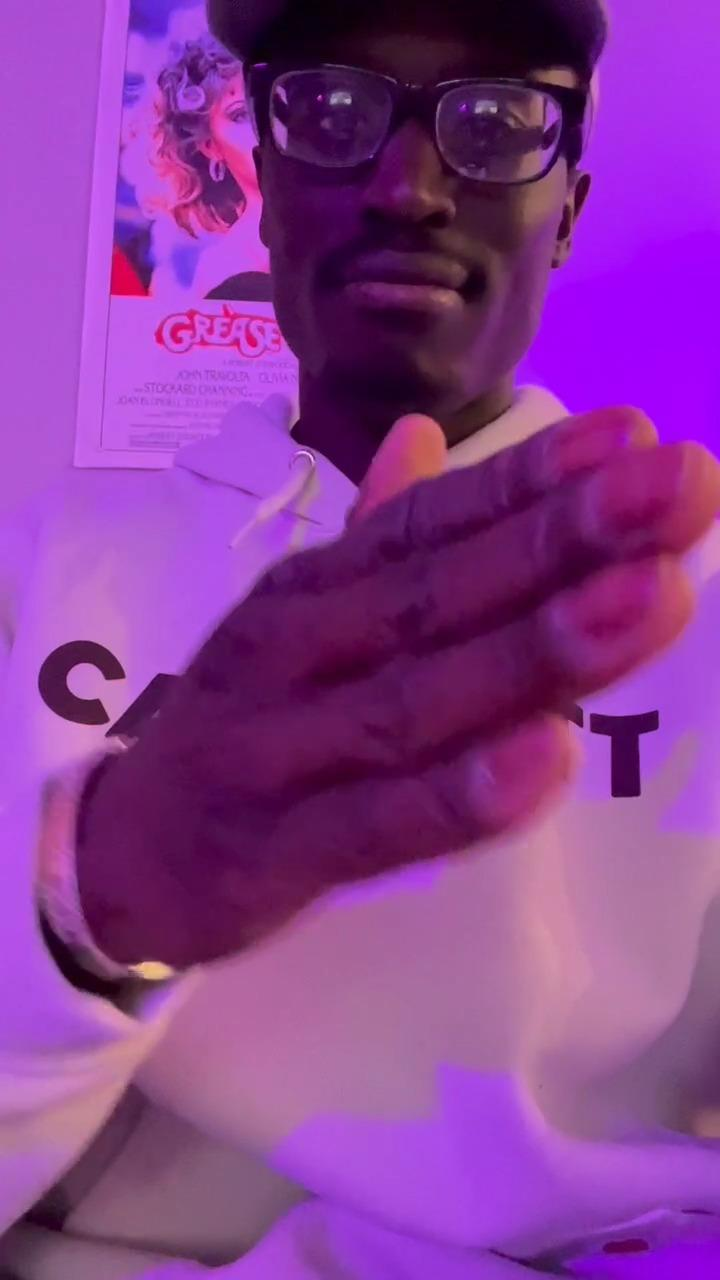Paper: (88, 398, 720, 973)
